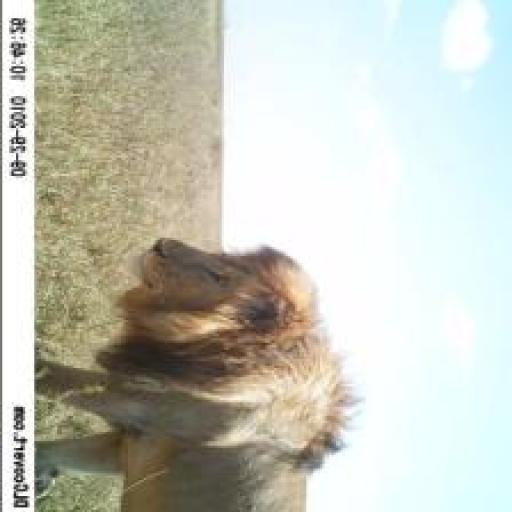lion: (36, 226, 367, 508)
